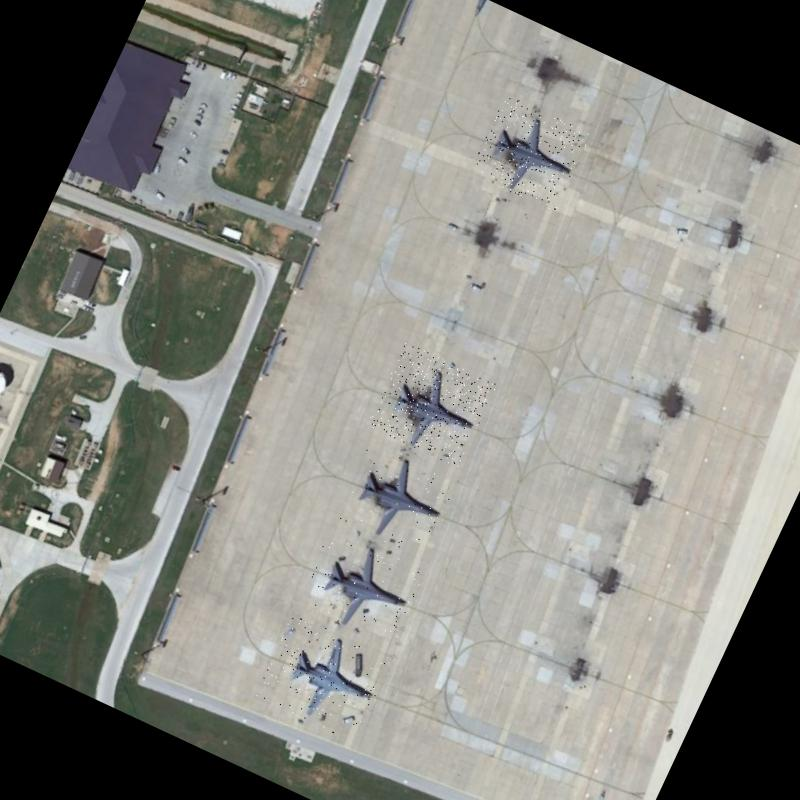A10: (253, 612, 392, 743), (367, 342, 497, 468), (295, 526, 427, 650), (330, 438, 460, 560), (468, 94, 590, 212)
